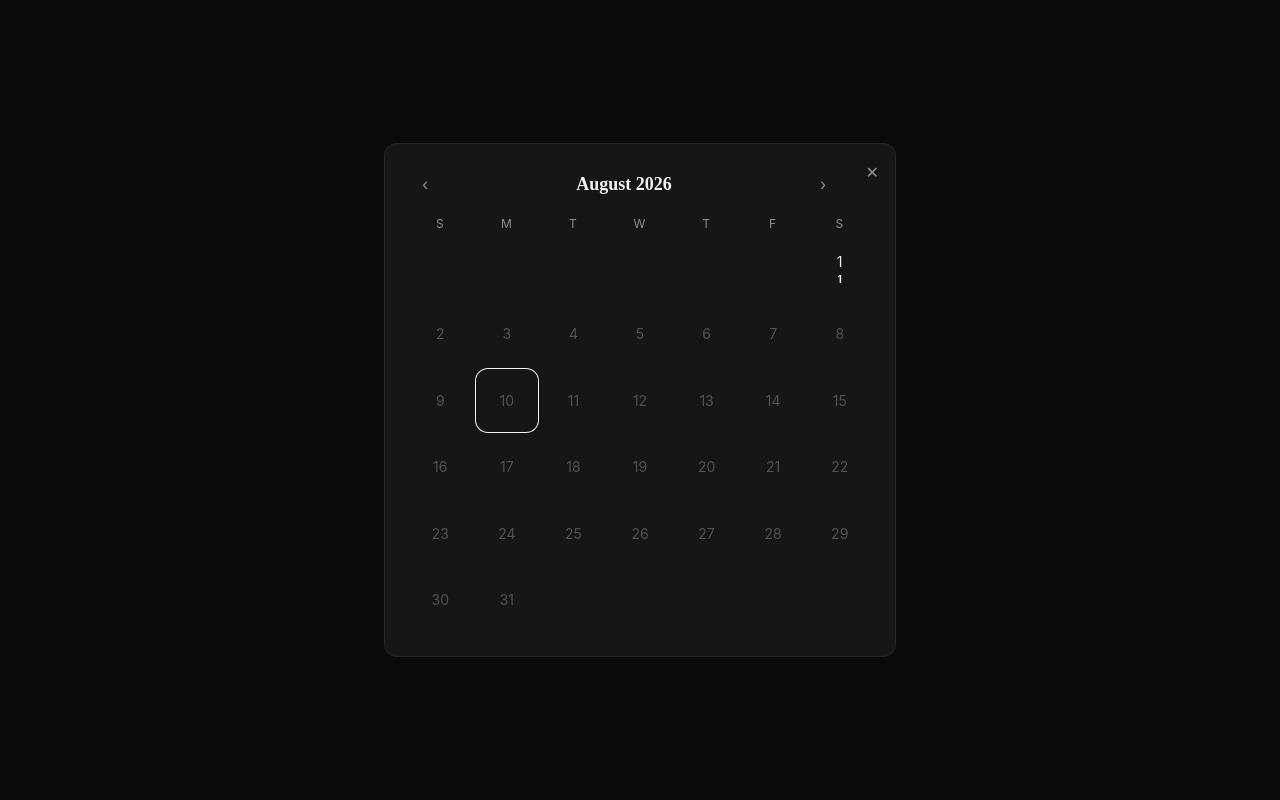
Test: CalendarModal › Escape closes only the topmost alert popup, not the whole calendar
Step 1. Click the button "1 1" → x=840, y=268, box [808,236,871,299]
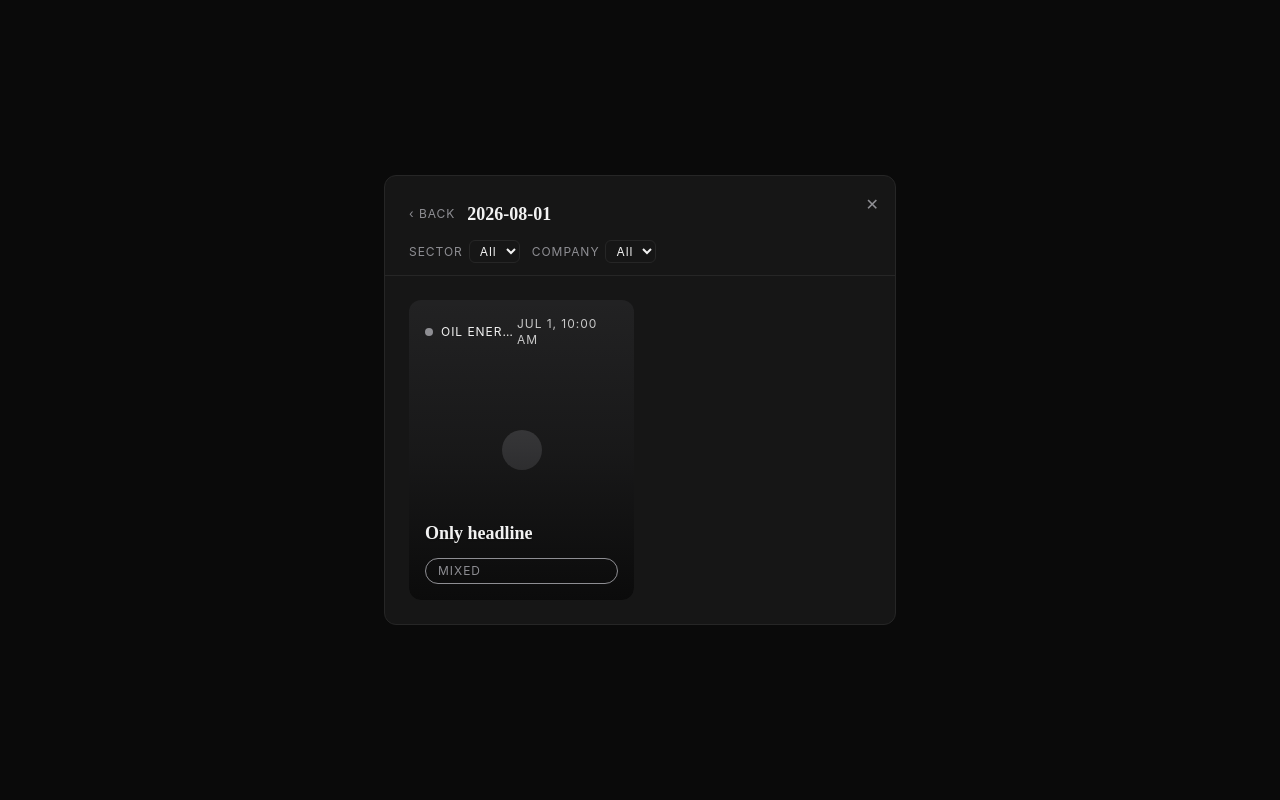
Step 2. Click the button "oil energy Jul 1, 10:00 AM Only headline Mixed" → x=522, y=450, box [409,300,634,600]
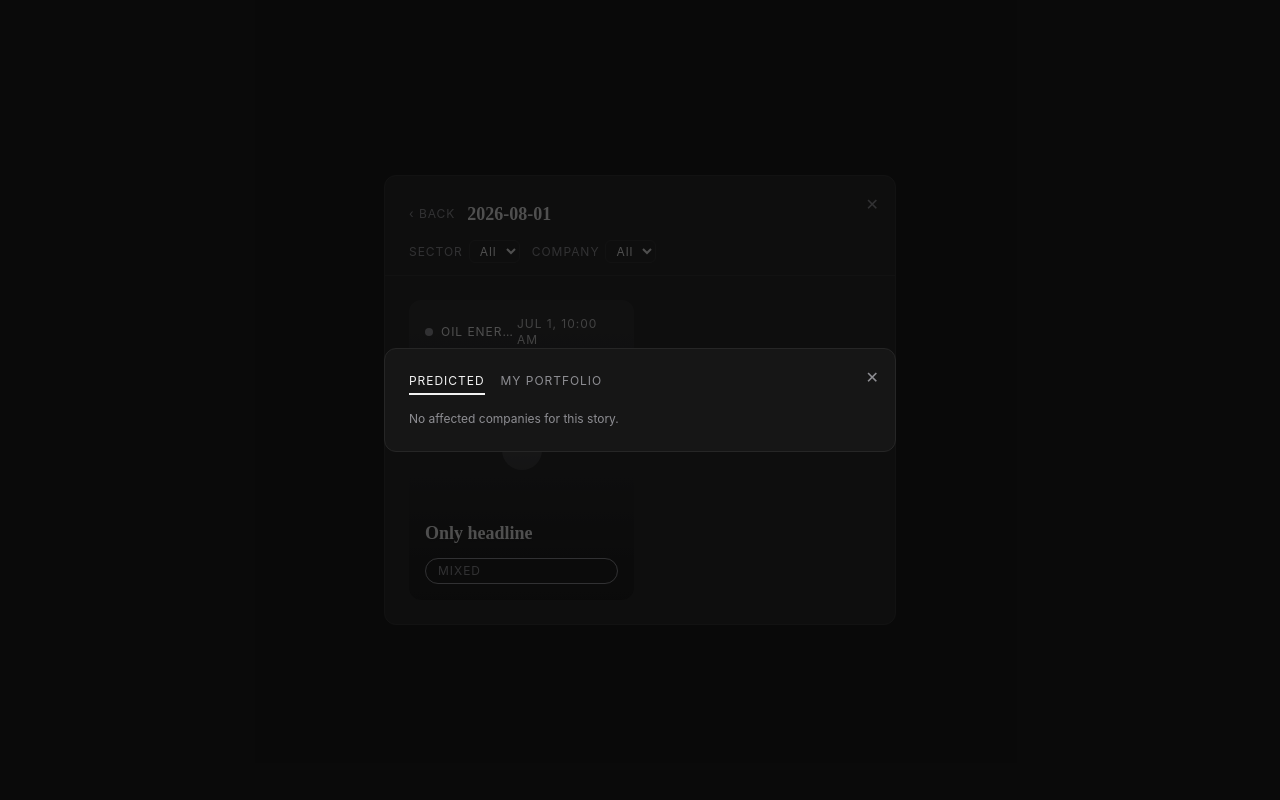
expect the text "No affected companies for this story." is shown: met, box [409,411,619,426]
Step 3. Press Escape
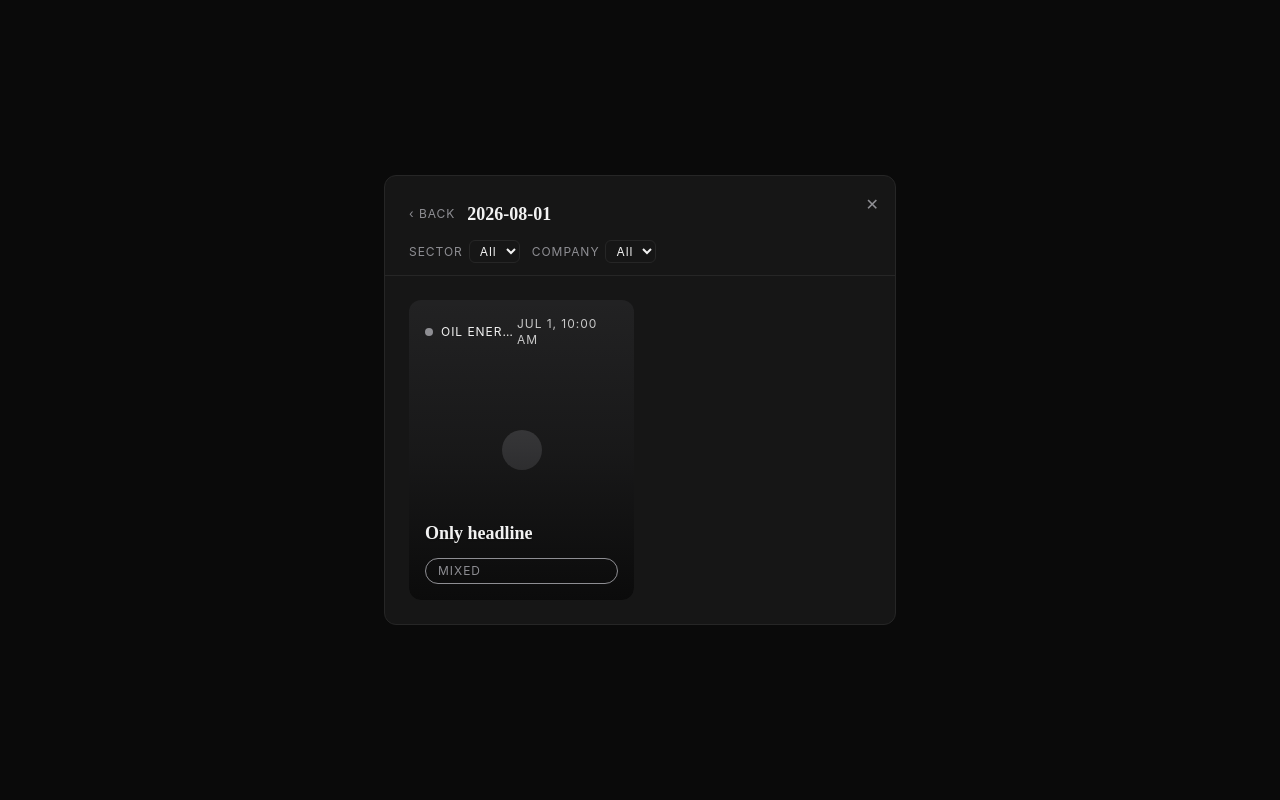
expect the heading "Only headline" is shown: met, box [425,523,532,543]
expect the text "No affected companies" is gone: met
